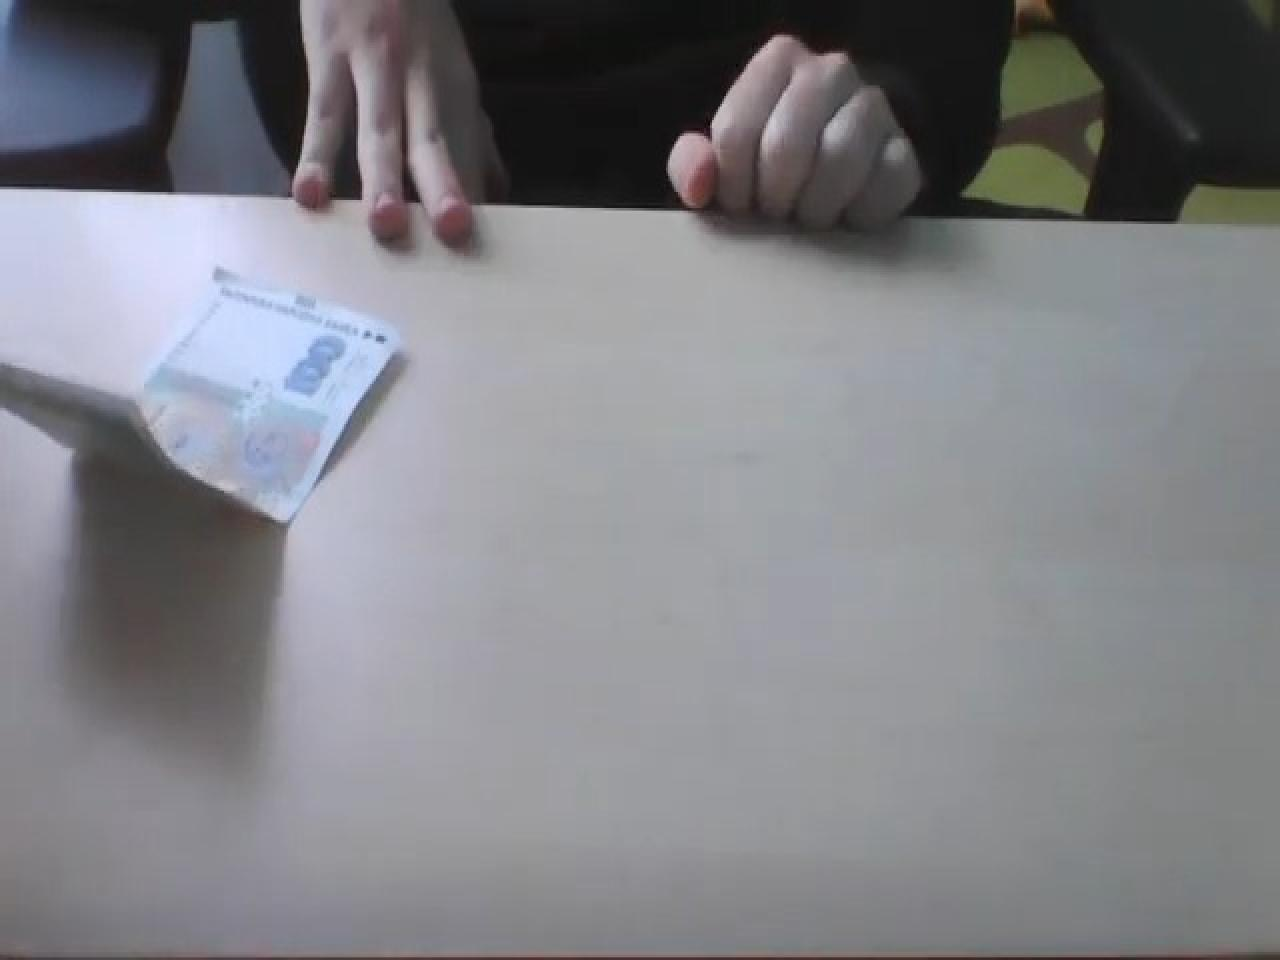100leva: (132, 261, 400, 525), (282, 331, 346, 397)
